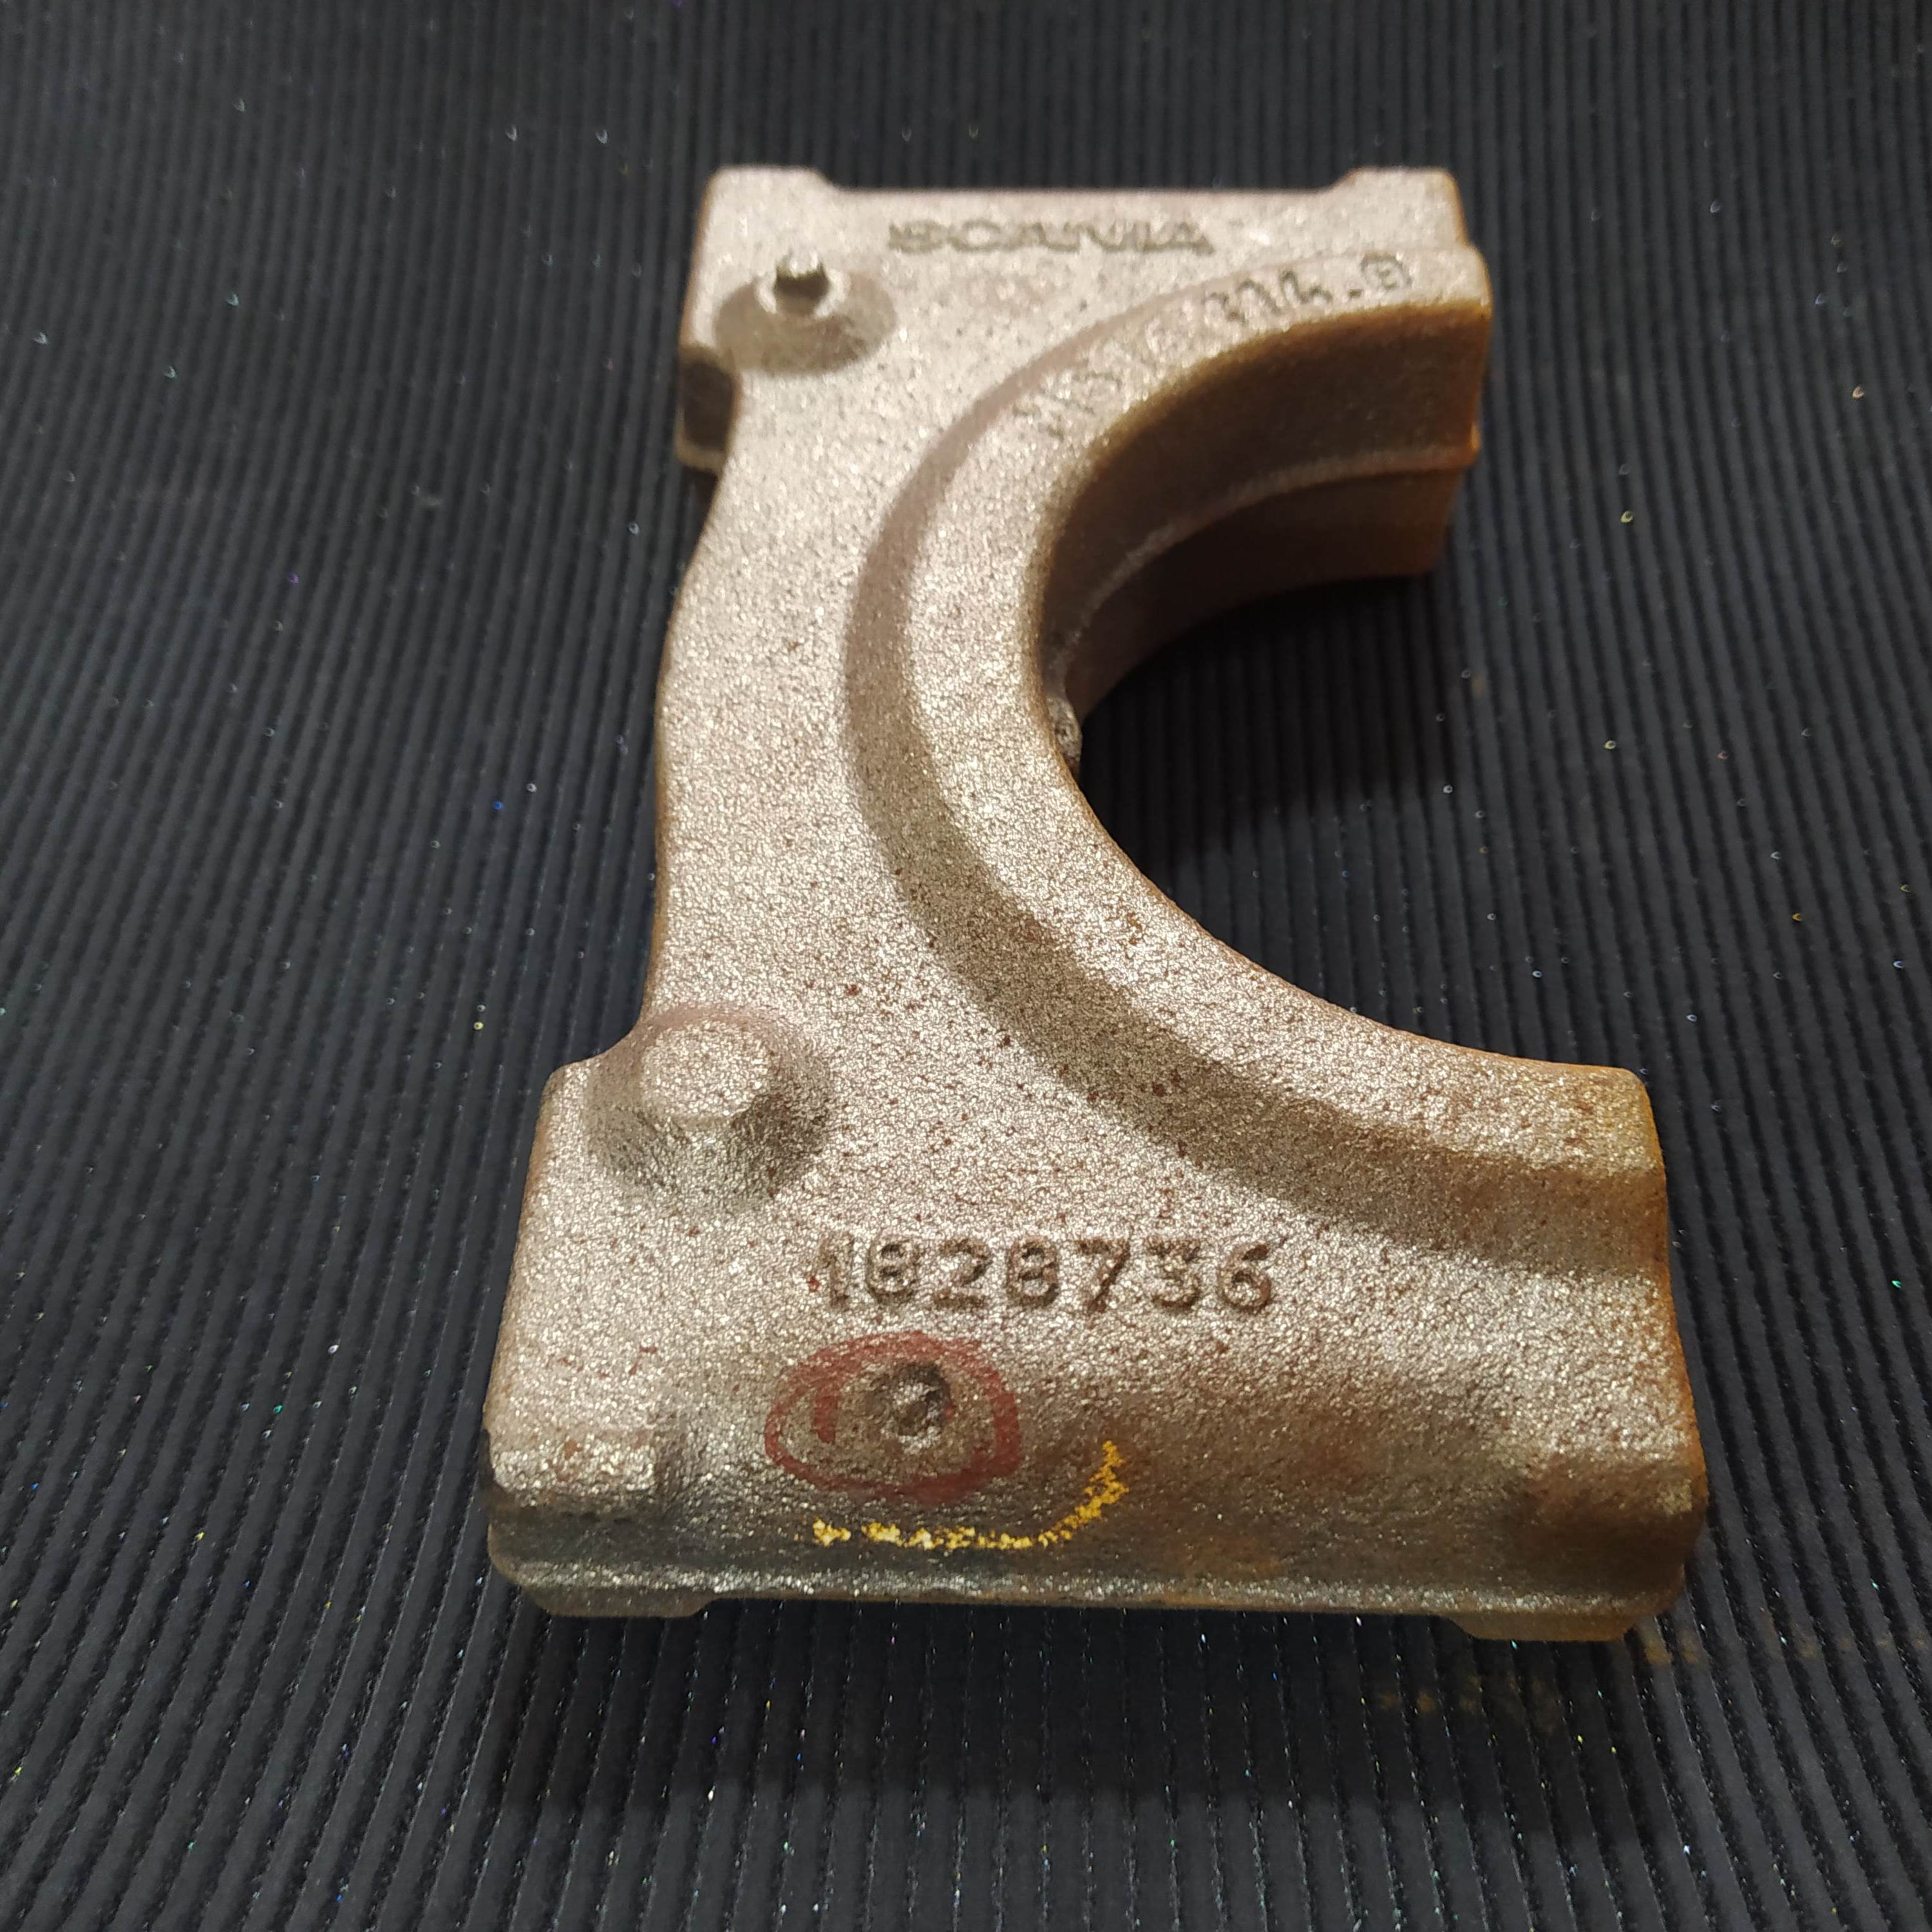buraco: (863, 1359, 961, 1447)
